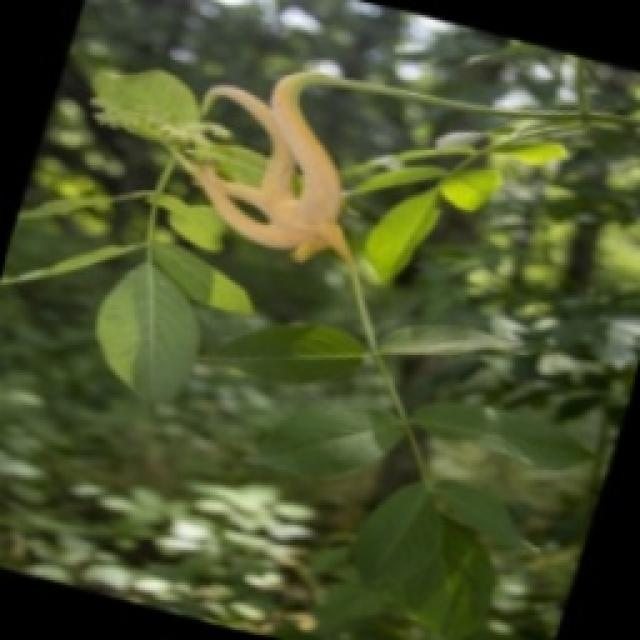Elderberry_rust: (182, 67, 358, 265)
